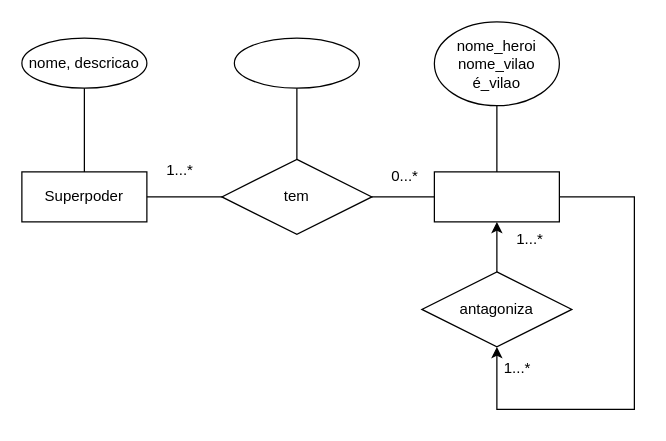
This 666x441 diagram has some shape labels left out. The shapes that lost their labels are listed below. From the top down, each one's centre as x and y in pixels, then its label:
At [296,62]: "intensidade".
At [496,196]: "Personagem".
